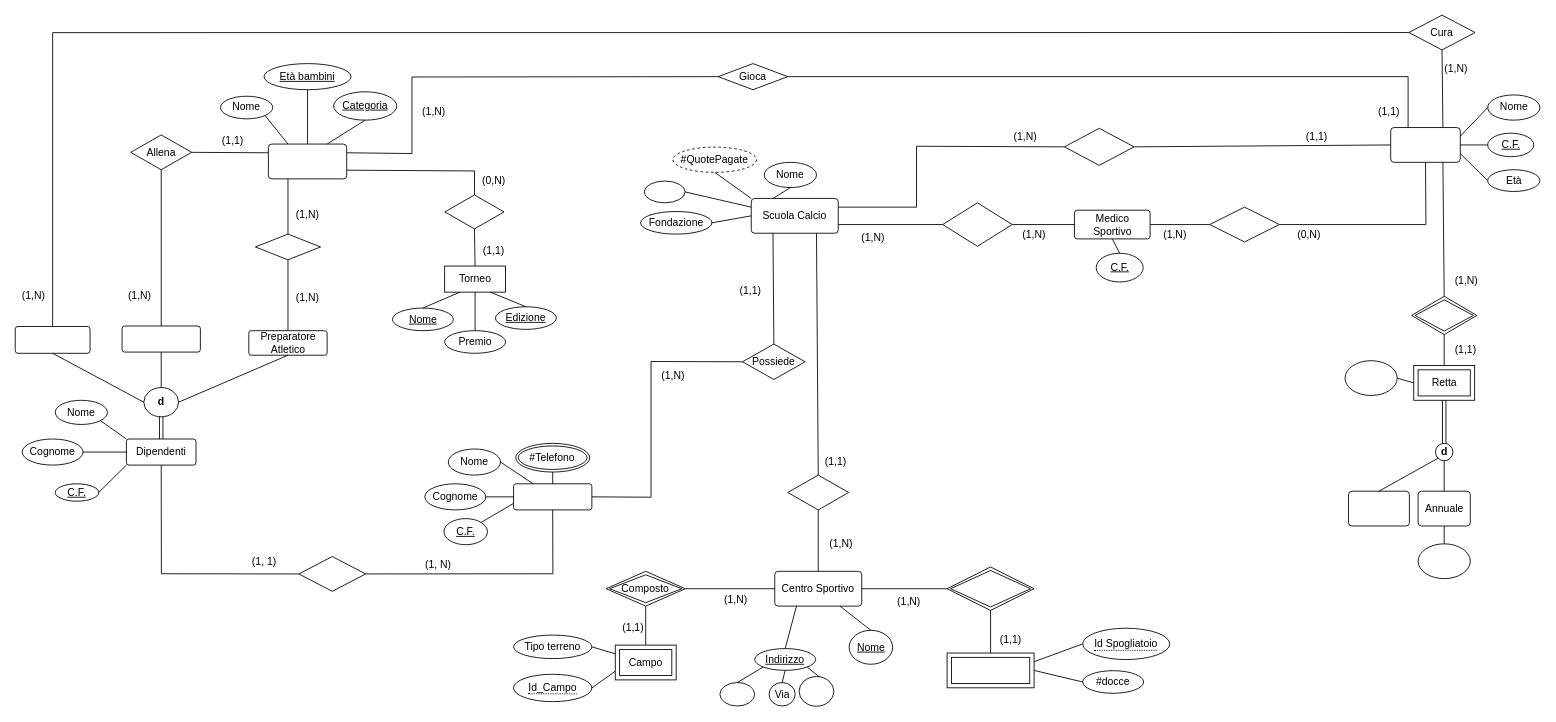
Image size: 1556x722. Some labels were removed from this diagram. Each missing label, with the centre of its shape:
"Allenatore" goes at pixel 160 338.
"Bambino" goes at pixel 1425 144.
"Città" goes at pixel 816 691.
"Civico" goes at pixel 737 694.
"Collabora" goes at pixel 977 224.
"Dispone di" goes at pixel 990 588.
"Fisioterapista" goes at pixel 52 339.
"Importo" goes at pixel 1370 378.
"Iscritto" goes at pixel 1099 146.
"Mensile" goes at pixel 1378 508.
"P. IVA" goes at pixel 664 191.
"Paga" goes at pixel 1444 315.
"Prepara" goes at pixel 287 246.
"Presidente" goes at pixel 552 496.
"Sconto" goes at pixel 1443 561.
"Spogliatoio" goes at pixel 990 670.
"Squadra" goes at pixel 307 161.
"Stipendia" goes at pixel 332 573.
"Utilizza" goes at pixel 818 492.
"Vince" goes at pixel 474 211.
"Visita" goes at pixel 1244 224.
